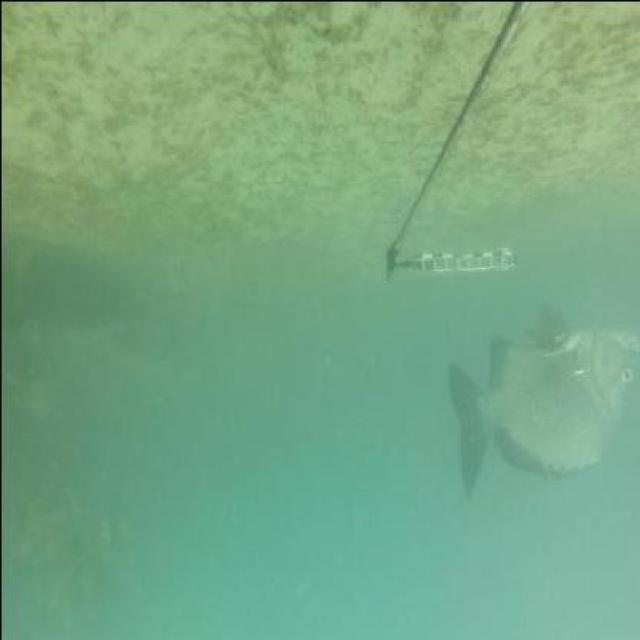acanthopagrus_palmaris: (443, 298, 635, 498)
